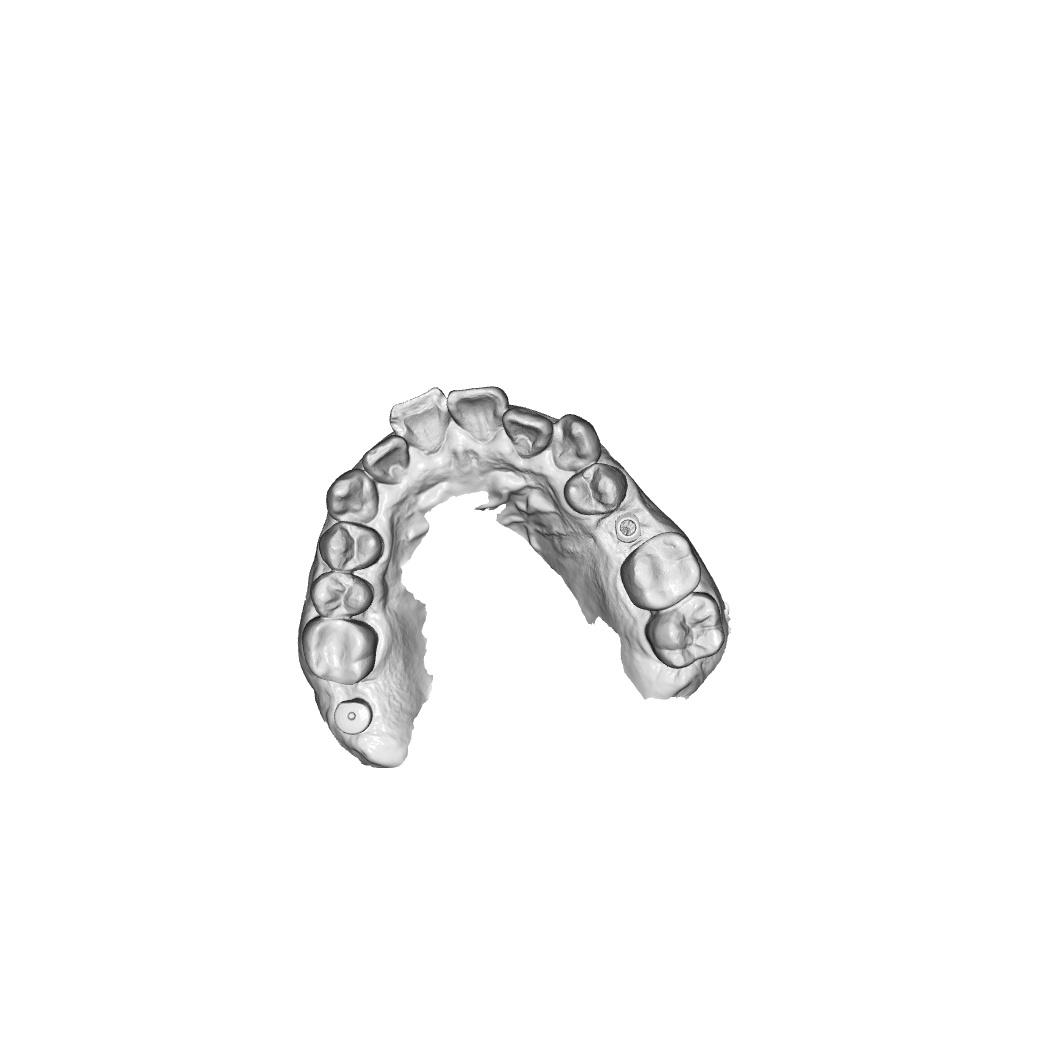canine: (549, 412, 603, 475), (323, 467, 380, 525)
implant: (332, 697, 375, 737), (611, 509, 647, 546)
incisor: (387, 384, 450, 458), (445, 385, 509, 443), (502, 405, 552, 460), (360, 433, 411, 486)
molar: (618, 530, 703, 614), (641, 590, 725, 671), (300, 617, 380, 687)
premolar: (563, 461, 630, 517), (317, 520, 385, 574), (307, 569, 375, 621)
